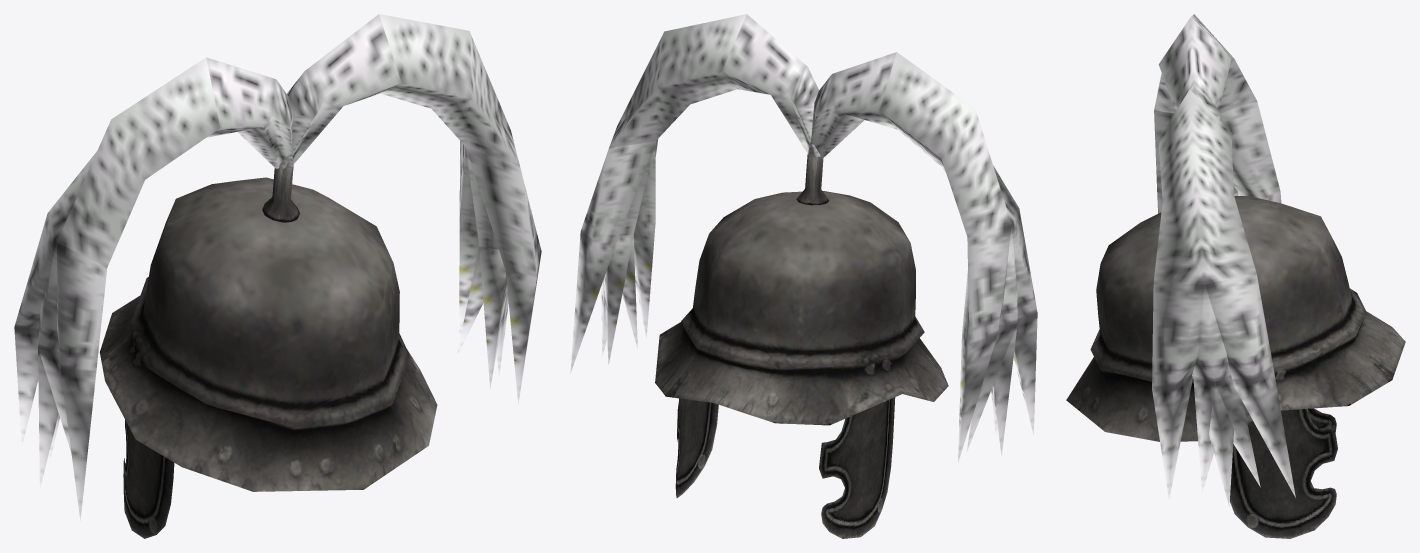
File: helm_rome_helmet_gallic_centurion.glb
3 renders of one model, left to right at view 1: azimuth 30°, elevation 25°; view 2: azimuth 150°, elevation 25°; view 3: azimuth 270°, elevation 25°, orthographic. The views are drawn at different scales.
Visible parts, largest first — view 1: helm_rome_helmet_gallic_centurion_part0, helm_rome_helmet_gallic_centurion_part1; view 2: helm_rome_helmet_gallic_centurion_part0, helm_rome_helmet_gallic_centurion_part1; view 3: helm_rome_helmet_gallic_centurion_part1, helm_rome_helmet_gallic_centurion_part0.
Boxes of the visible parts, x1,y1,x2,y2 form: helm_rome_helmet_gallic_centurion_part0: (99, 165, 437, 538); helm_rome_helmet_gallic_centurion_part1: (14, 14, 541, 520); helm_rome_helmet_gallic_centurion_part0: (655, 154, 948, 538); helm_rome_helmet_gallic_centurion_part1: (570, 14, 1037, 462); helm_rome_helmet_gallic_centurion_part1: (1152, 14, 1295, 506); helm_rome_helmet_gallic_centurion_part0: (1066, 196, 1405, 538).
Size of the model in its own units: 0.9666 by 0.9865 by 0.6848.
Materials: 2 (2 with a texture image).
